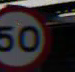Speed limit: (1, 5, 52, 69)
